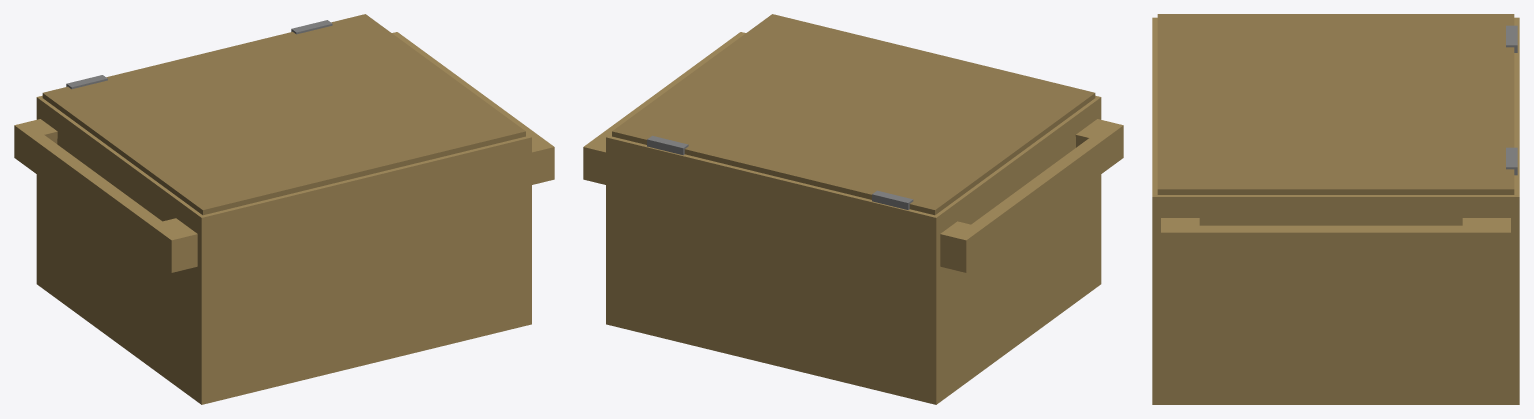
Rendered from cartridges12.fbx.
3 renders of one model, left to right at view 1: azimuth 30°, elevation 25°; view 2: azimuth 150°, elevation 25°; view 3: azimuth 270°, elevation 25°, orthographic. The views are drawn at different scales.
Parts seen in each view (by area): view 1: Cylinder_7, Cube_9; view 2: Cylinder_7, Cube_9; view 3: Cylinder_7, Cube_9.
Part boxes in pixels (x1,y1,x2,y2): Cylinder_7: (14, 32, 554, 404); Cube_9: (42, 14, 525, 215); Cylinder_7: (583, 32, 1123, 404); Cube_9: (612, 14, 1095, 215); Cylinder_7: (1152, 17, 1519, 404); Cube_9: (1157, 14, 1517, 194).
Size of the model in its own units: 158 by 76.68 by 118.
